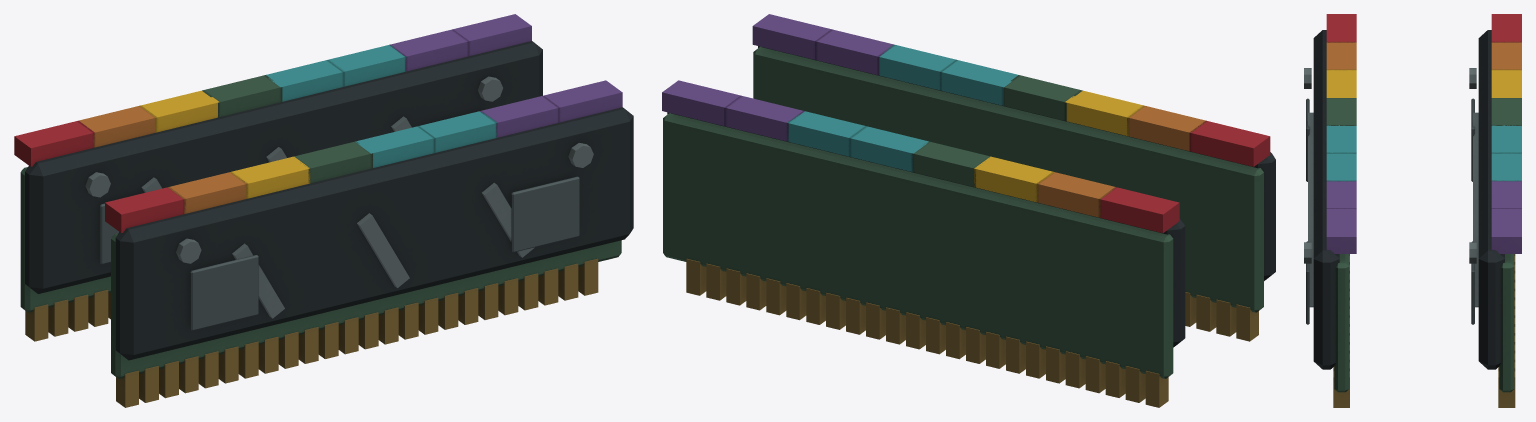
The model's file is ram_pair.obj.
3 renders of one model, left to right at view 1: azimuth 30°, elevation 25°; view 2: azimuth 150°, elevation 25°; view 3: azimuth 270°, elevation 25°, orthographic. The views are drawn at different scales.
Parts seen in each view (by area): view 1: ram_pair_static_0; view 2: ram_pair_static_0; view 3: ram_pair_static_0.
Part boxes in pixels (x1,y1,x2,y2): ram_pair_static_0: (14, 14, 633, 407); ram_pair_static_0: (662, 14, 1275, 407); ram_pair_static_0: (1304, 14, 1521, 407).
Bounding box in the file's own units: 0.144 × 0.053 × 0.058.
Materials: 1 (1 with a texture image).
